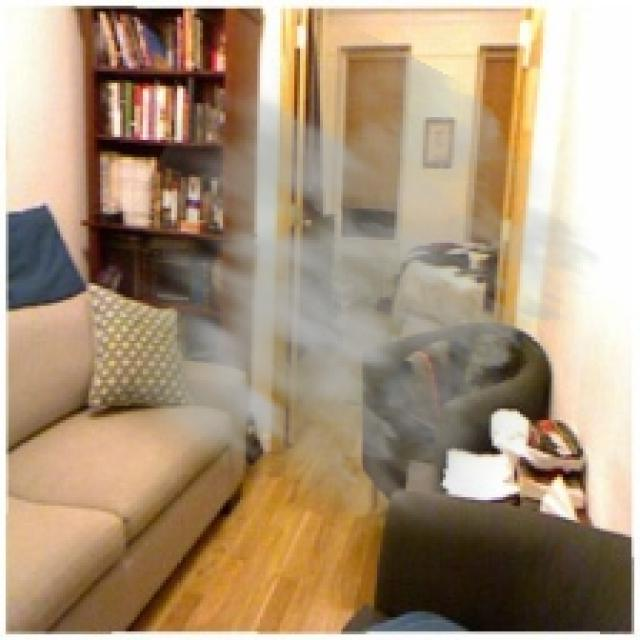smoke: (48, 17, 603, 549)
